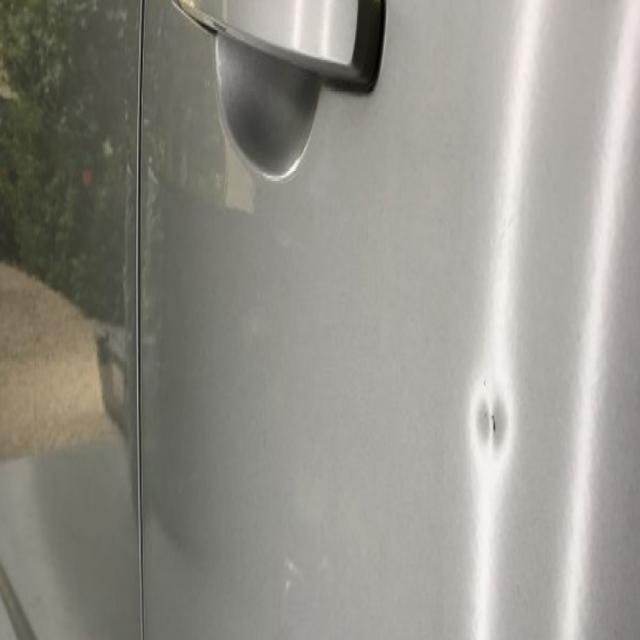dents: (464, 371, 519, 473)
